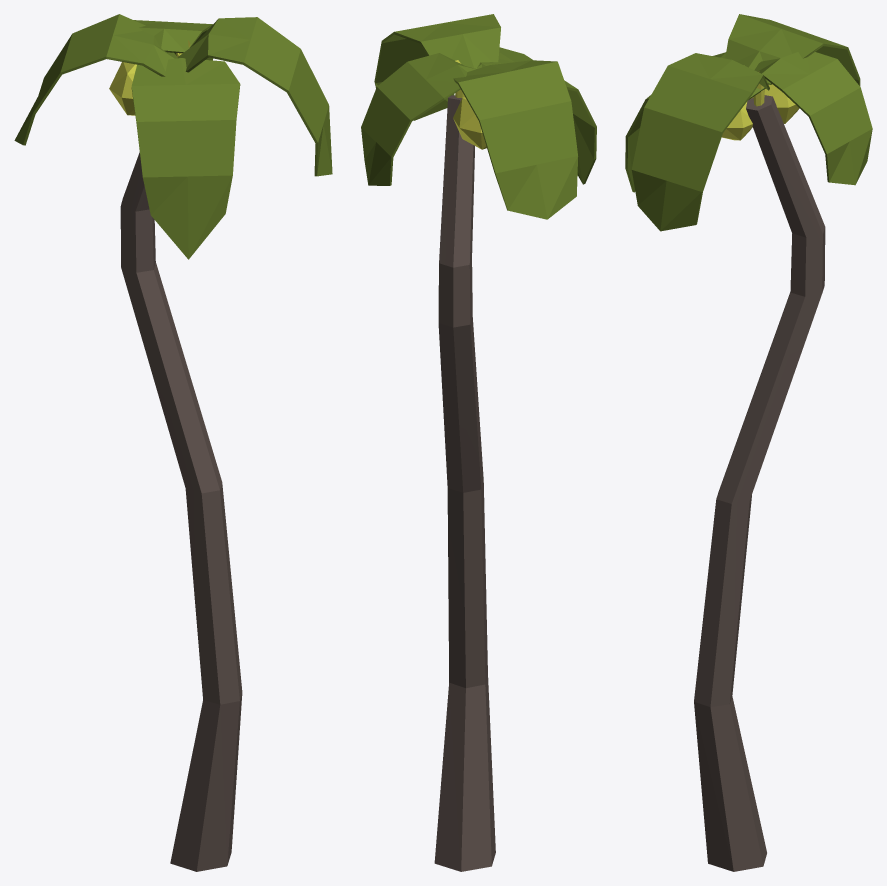
The model's file is 07 Coconut_Tree_1.FBX.
3 renders of one model, left to right at view 1: azimuth 30°, elevation 25°; view 2: azimuth 150°, elevation 25°; view 3: azimuth 270°, elevation 25°, orthographic. The views are drawn at different scales.
Visible parts, largest first — view 1: Tree_Tropic_023; view 2: Tree_Tropic_023; view 3: Tree_Tropic_023.
Part boxes in pixels (x1=…): Tree_Tropic_023: x1=14, y1=14, x2=332, y2=871; Tree_Tropic_023: x1=361, y1=14, x2=596, y2=871; Tree_Tropic_023: x1=625, y1=14, x2=872, y2=871.
Bounding box in the file's own units: 474 × 1467 × 411.
